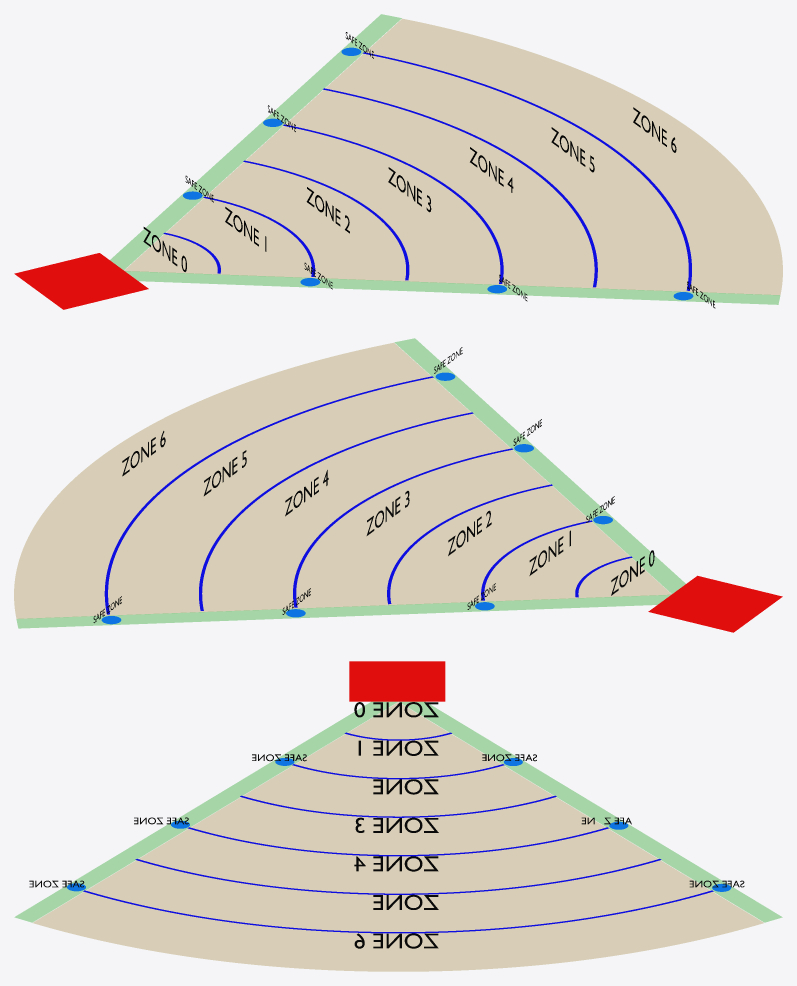
Rendered from biyor.gltf.
3 renders of one model, top to bottom at view 1: azimuth 30°, elevation 25°; view 2: azimuth 150°, elevation 25°; view 3: azimuth 270°, elevation 25°, orthographic. The views are drawn at different scales.
Visible parts, largest first — view 1: Zone_Label_6_fontobj; view 2: Zone_Label_6_fontobj; view 3: Zone_Label_6_fontobj.
Boxes of the visible parts, x1,y1,x2,y2 form: Zone_Label_6_fontobj: (14, 14, 782, 309); Zone_Label_6_fontobj: (14, 338, 782, 632); Zone_Label_6_fontobj: (14, 661, 782, 971).
Bounding box in the file's own units: 115 × 3.33 × 120.
